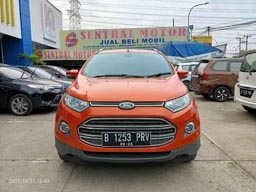plat: (102, 132, 151, 141)
